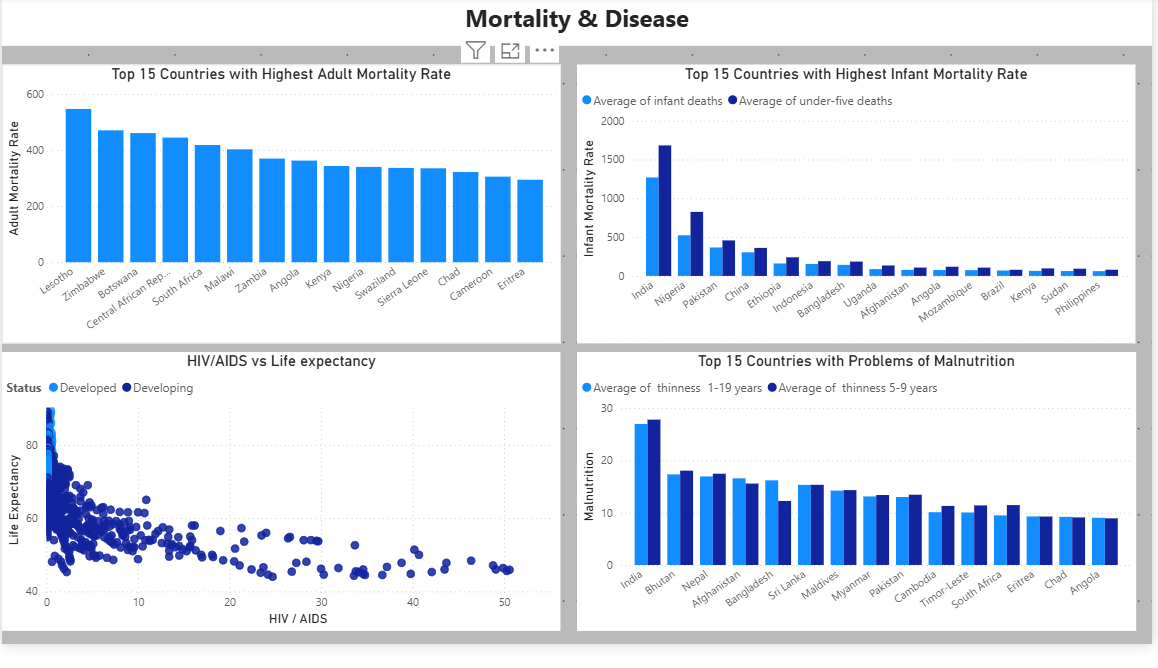

This screenshot's page, from the dashboard's own definition file:
{"tool":"powerbi","page":{"name":"Page 3","canvas":[1280,720],"ordinal":2},"visuals":[{"type":"textbox","box":[0,0,1280,54.3],"z":0},{"type":"clusteredColumnChart","title":"Top 15 Countries with Highest Adult Mortality Rate","fields":{"Category":["Life Expectancy Data.Country"],"Y":["Avg(Life Expectancy Data.Adult Mortality)"]},"box":[0,75.1,621.9,310.3],"z":1000},{"type":"scatterChart","title":"HIV/AIDS vs Life expectancy  ","fields":{"X":["Life Expectancy Data. HIV/AIDS"],"Series":["Life Expectancy Data.Status"],"Size":["Count(Life Expectancy Data.Country)"],"Y":["Life Expectancy Data.Life expectancy "]},"box":[0,395.1,621.9,310.3],"z":2000},{"type":"clusteredColumnChart","title":"Top 15 Countries with Highest Infant Mortality Rate","fields":{"Category":["Life Expectancy Data.Country"],"Y":["Avg(Life Expectancy Data.infant deaths)","Avg(Life Expectancy Data.under-five deaths )"]},"box":[640,75.1,621.9,310.3],"z":3000},{"type":"clusteredColumnChart","title":"Top 15 Countries with Problems of Malnutrition","fields":{"Category":["Life Expectancy Data.Country"],"Y":["Avg(Life Expectancy Data. thinness  1-19 years)","Avg(Life Expectancy Data. thinness 5-9 years)"]},"box":[640,395,622,310],"z":4000}]}

Visuals, with their boxes in screenshot pixels (x1, y1, x2, y2), scaled from the page's 1280x720 canvas onto the 1158x668 screenshot:
textbox: [0,0,1157,50]
"Top 15 Countries with Highest Adult Mortality Rate" clusteredColumnChart: [0,70,563,358]
"HIV/AIDS vs Life expectancy  " scatterChart: [0,367,563,654]
"Top 15 Countries with Highest Infant Mortality Rate" clusteredColumnChart: [579,70,1142,358]
"Top 15 Countries with Problems of Malnutrition" clusteredColumnChart: [579,366,1142,654]
